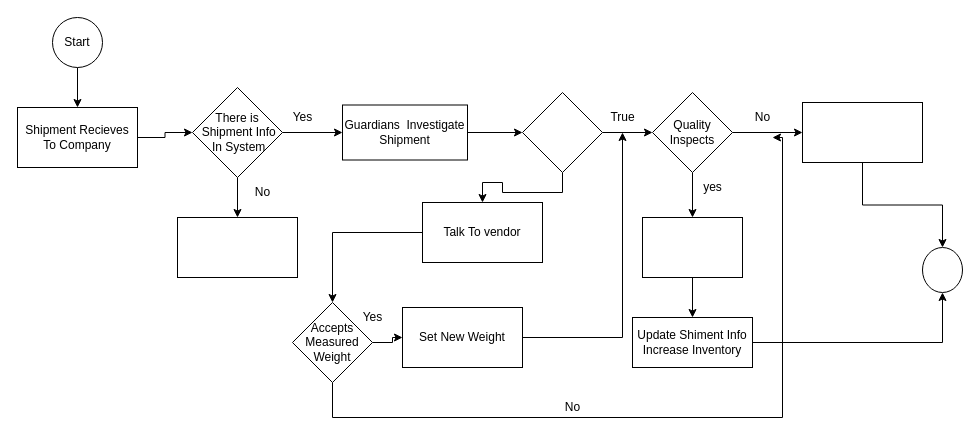
This 980x443 diagram has some shape labels left out. Each missing label, with the centre of its shape:
"End" goes at pixel 942 269.
"Recieves To Raw Mat WH" goes at pixel 692 247.
"Return Ahipment To vendor" goes at pixel 862 132.
"Weight Inspects," goes at pixel 562 132.
"Wrong Shipment Content" goes at pixel 237 247.
